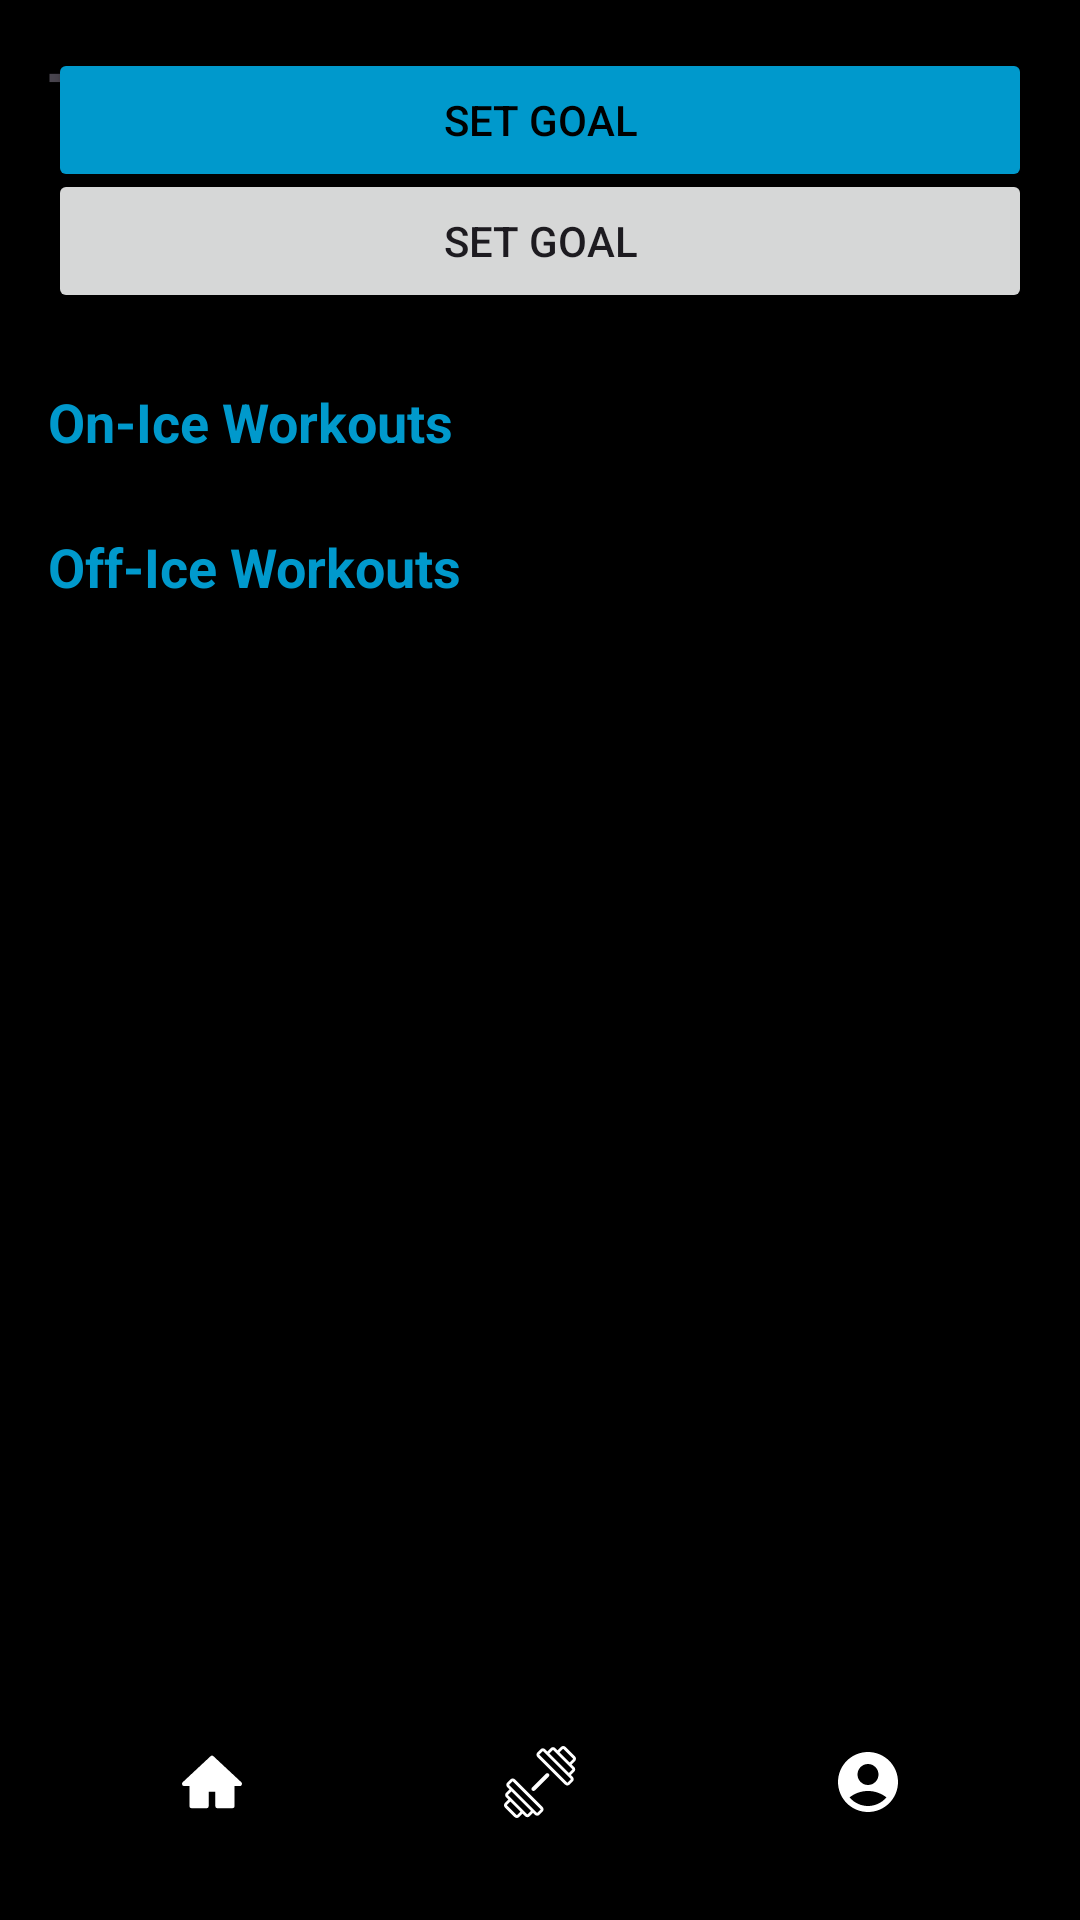

Screen size 1080×1920. Icon name, then its box in pixels as (x1, y1, x2, y2):
dumbbell: (504, 1746, 576, 1818)
house: (182, 1755, 242, 1809)
profilevector: (838, 1752, 898, 1812)
